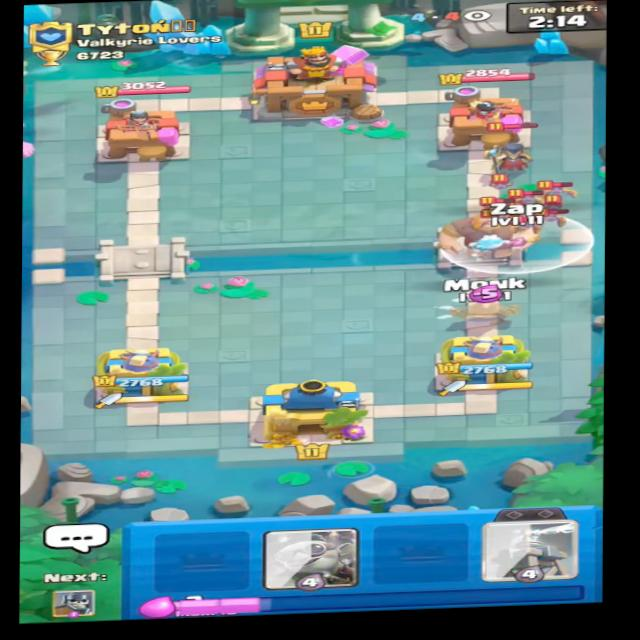bats: (541, 183, 580, 199), (483, 190, 515, 208), (541, 211, 571, 229), (514, 191, 542, 209), (489, 177, 513, 194)
giant: (445, 201, 549, 262)
night-witch: (479, 123, 549, 172)
